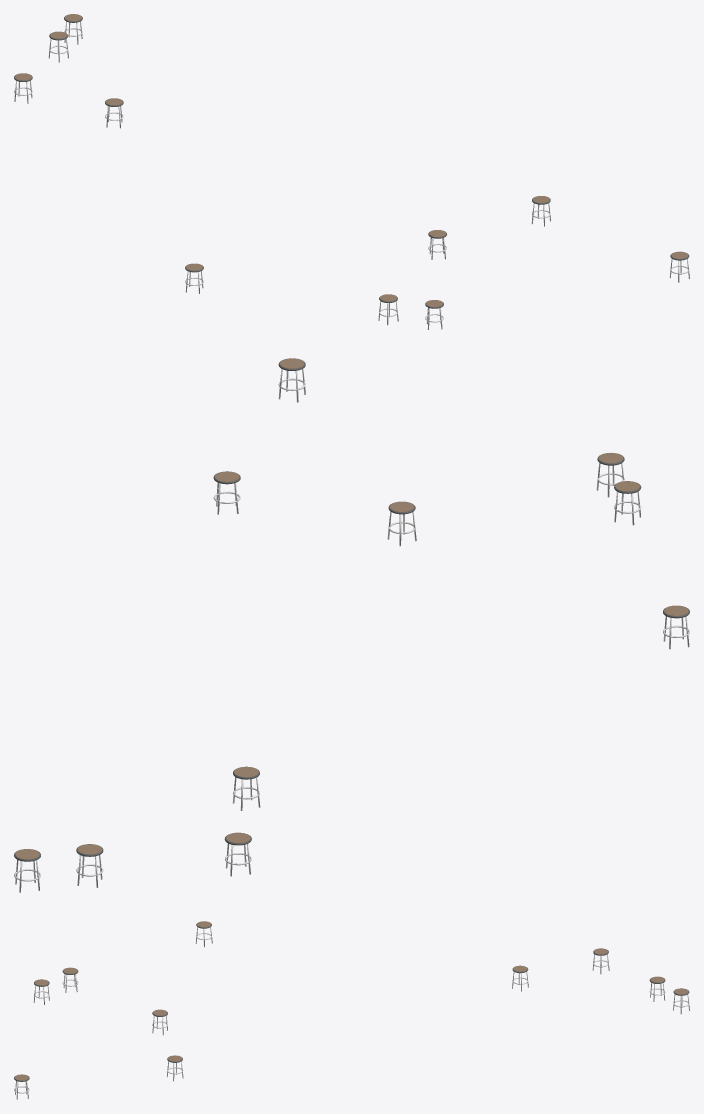
File: stool.glb
The picture shows the model from 3 angles, top to bottom: view 1: azimuth 30°, elevation 25°; view 2: azimuth 150°, elevation 25°; view 3: azimuth 270°, elevation 25°; orthographic projection. The views are drawn at different scales.
Bounding box in the file's own units: 11.45 × 0.6447 × 20.43.
